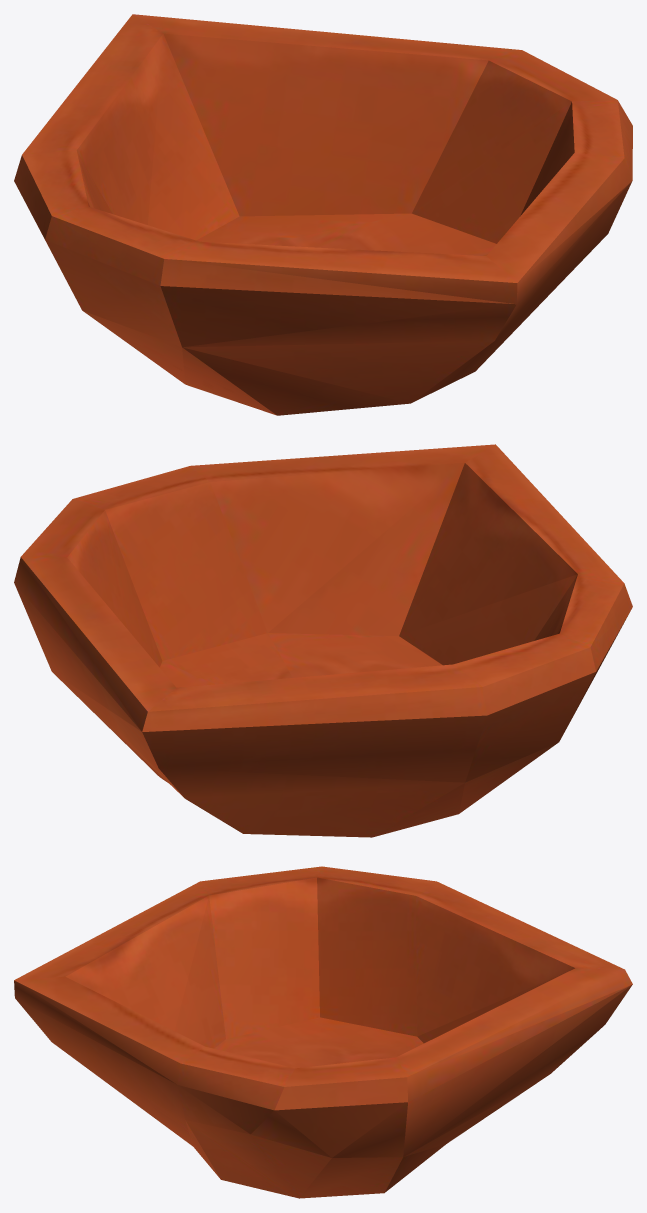
The model's file is diya_clay_02.glb.
3 renders of one model, top to bottom at view 1: azimuth 30°, elevation 25°; view 2: azimuth 150°, elevation 25°; view 3: azimuth 270°, elevation 25°, orthographic. The views are drawn at different scales.
Parts seen in each view (by area): view 1: diya_mesh; view 2: diya_mesh; view 3: diya_mesh.
Boxes of the visible parts, <box> form: diya_mesh: <box>14,14,632,415</box>; diya_mesh: <box>14,444,632,837</box>; diya_mesh: <box>14,866,632,1198</box>.
Size of the model in its own units: 0.2646 by 0.0937 by 0.3052.
1 material, 1 textured.
